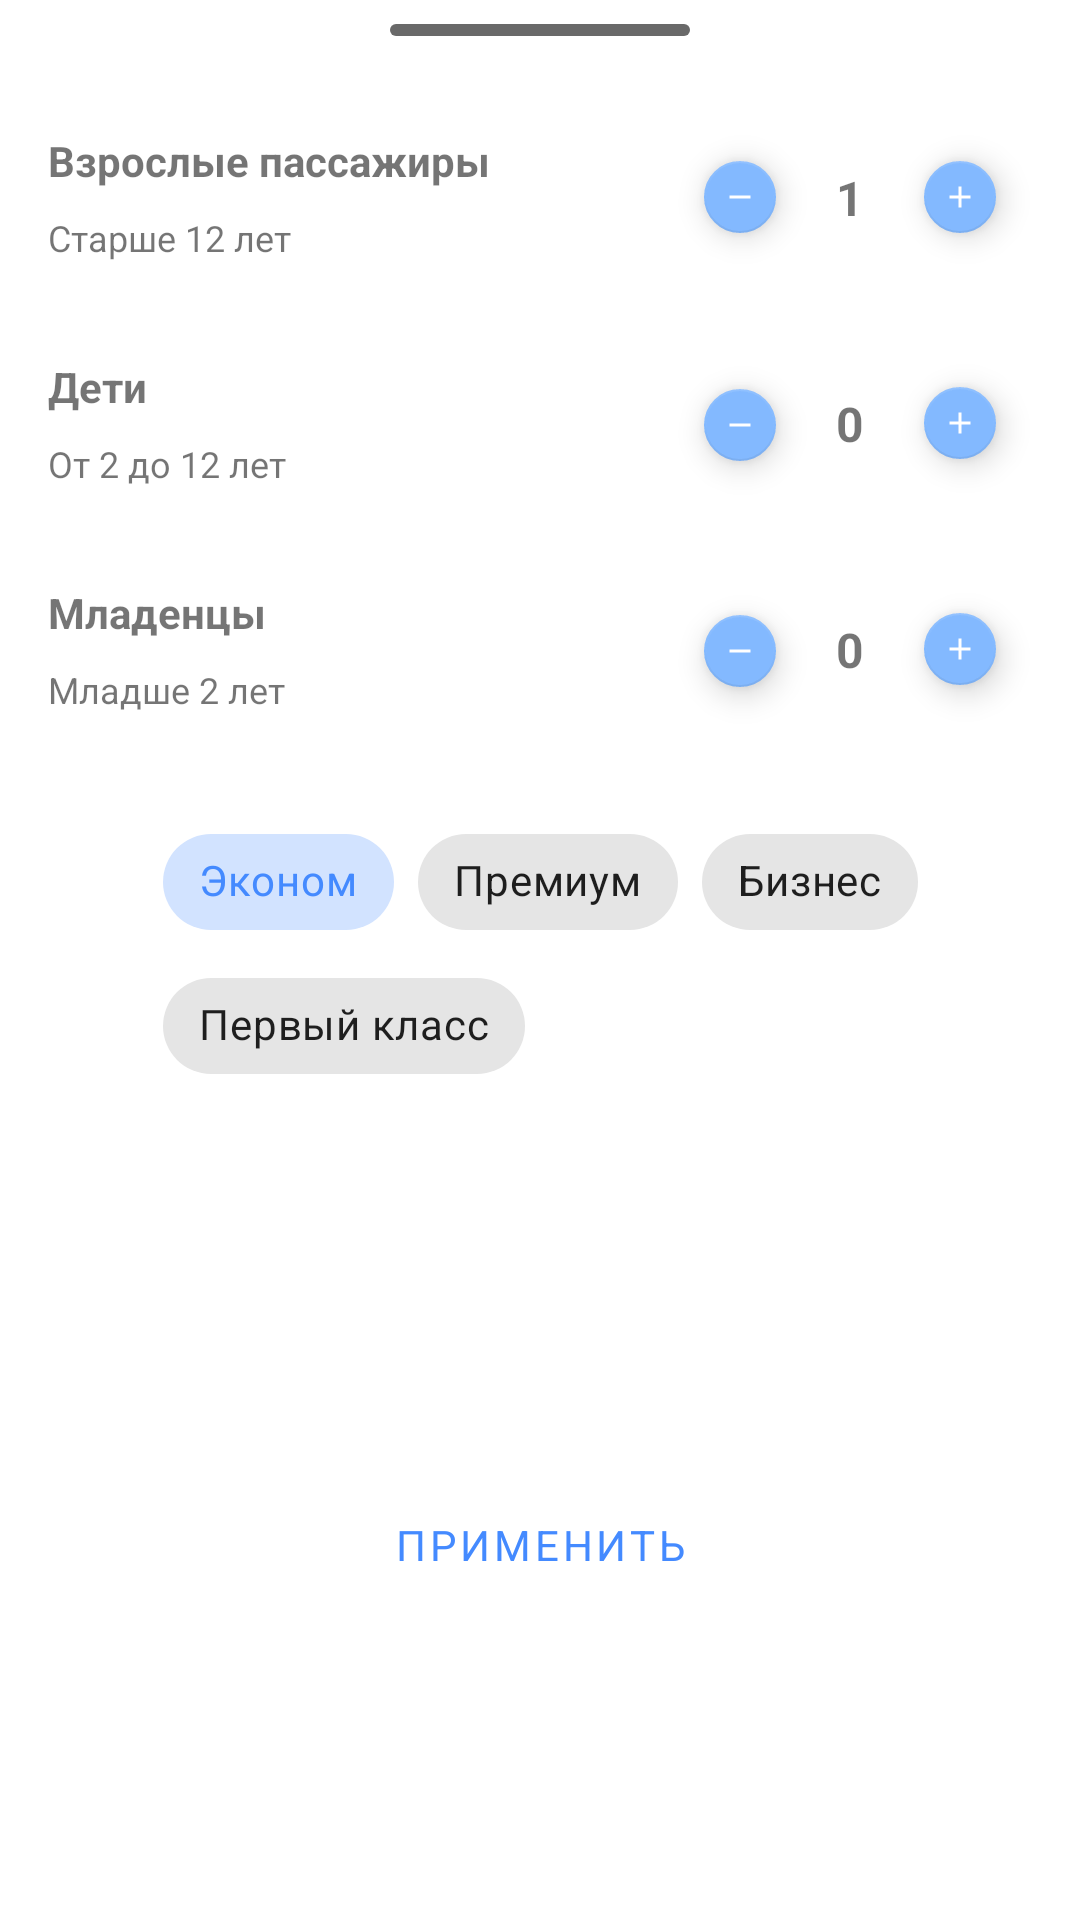

Where to tap for icons on this 1080w x 1920h app screen, as (x,y):
add: (961,197), (961,424), (961,651)
minus: (740,197), (740,426), (740,653)
